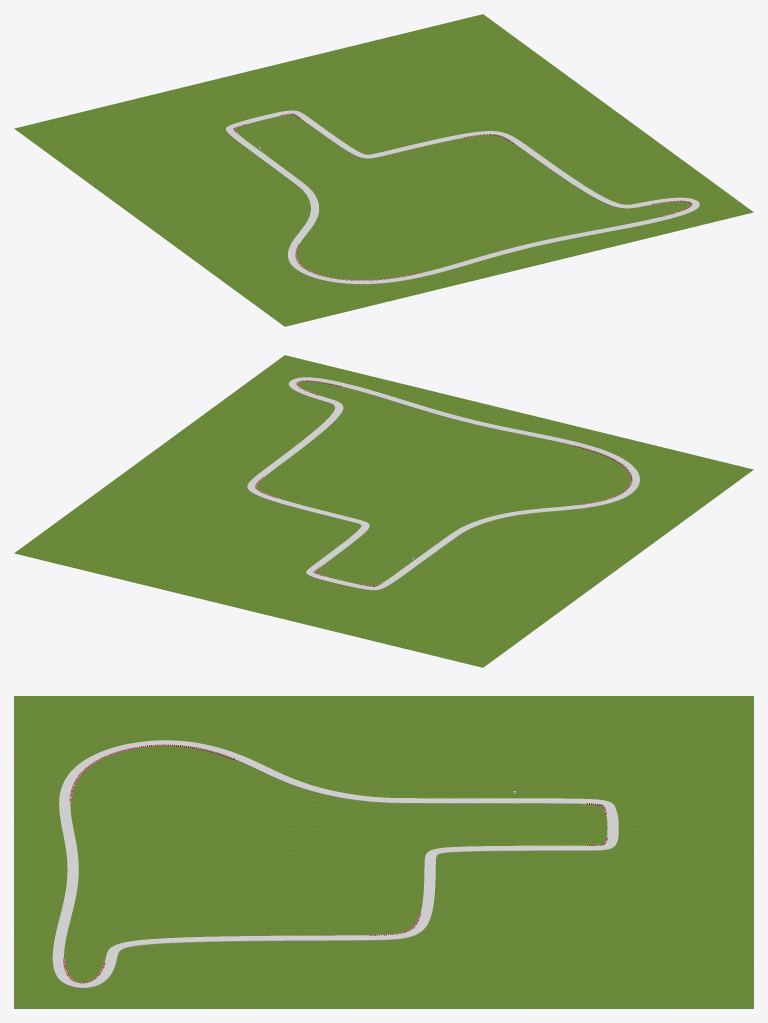
Rendered from track.fbx.
The picture shows the model from 3 angles, top to bottom: view 1: azimuth 30°, elevation 25°; view 2: azimuth 150°, elevation 25°; view 3: azimuth 270°, elevation 25°; orthographic projection. The views are drawn at different scales.
Parts seen in each view (by area): view 1: grass, Дорога; view 2: grass, Дорога; view 3: grass, Дорога.
Boxes of the visible parts, bbox=[...] form: grass: bbox=[14, 14, 753, 326]; Дорога: bbox=[226, 110, 699, 284]; grass: bbox=[14, 355, 753, 667]; Дорога: bbox=[247, 377, 639, 590]; grass: bbox=[14, 696, 753, 1008]; Дорога: bbox=[52, 740, 618, 988].
Size of the model in its own units: 657 by 10.98 by 657.
